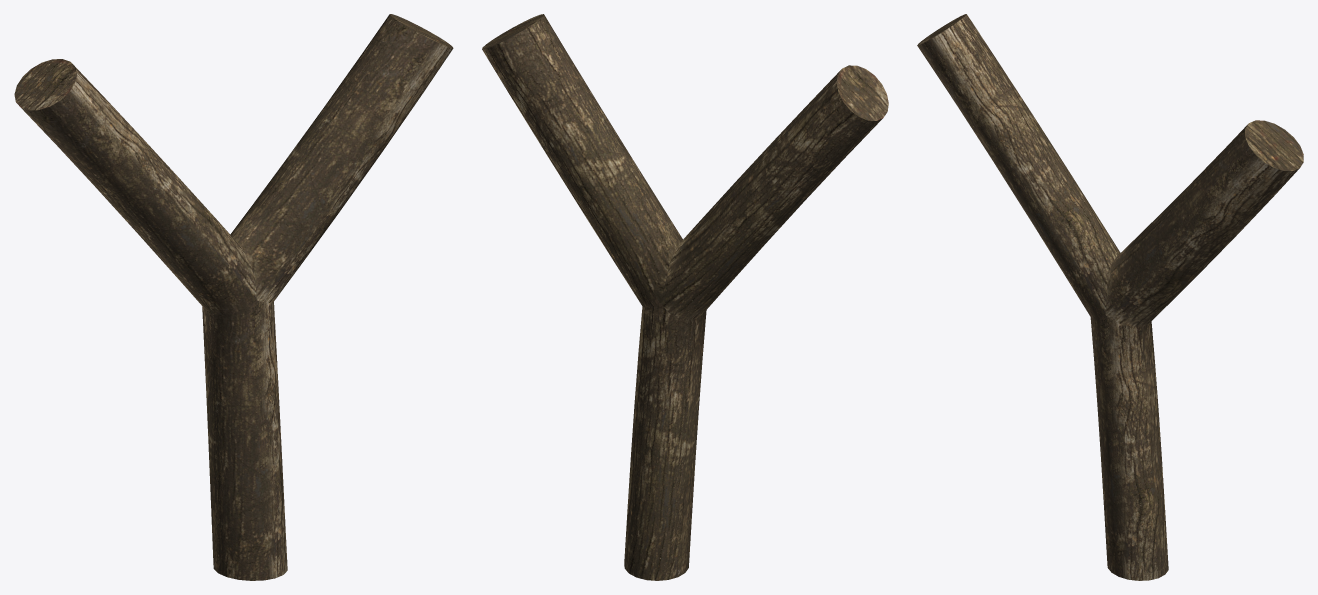
The model's file is slingshot.FBX.
3 renders of one model, left to right at view 1: azimuth 30°, elevation 25°; view 2: azimuth 150°, elevation 25°; view 3: azimuth 330°, elevation 25°, orthographic. The views are drawn at different scales.
Parts seen in each view (by area): view 1: Cylinder001; view 2: Cylinder001; view 3: Cylinder001.
Boxes of the visible parts, x1,y1,x2,y2 form: Cylinder001: [14, 14, 453, 580]; Cylinder001: [482, 14, 888, 580]; Cylinder001: [917, 14, 1303, 580].
Size of the model in its own units: 44.23 by 56.12 by 8.55.
